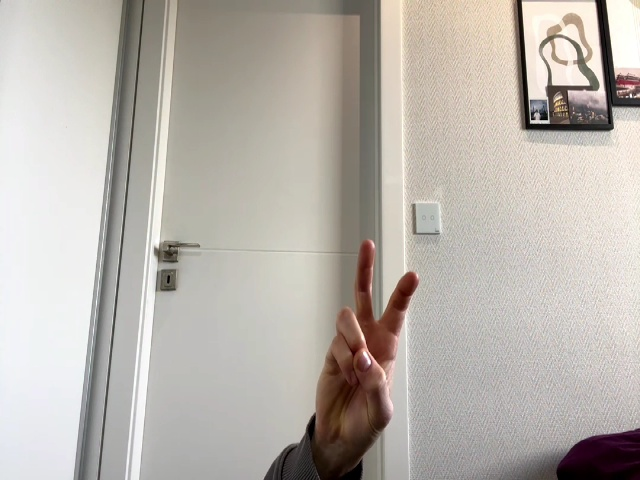H: (315, 239, 419, 444)
